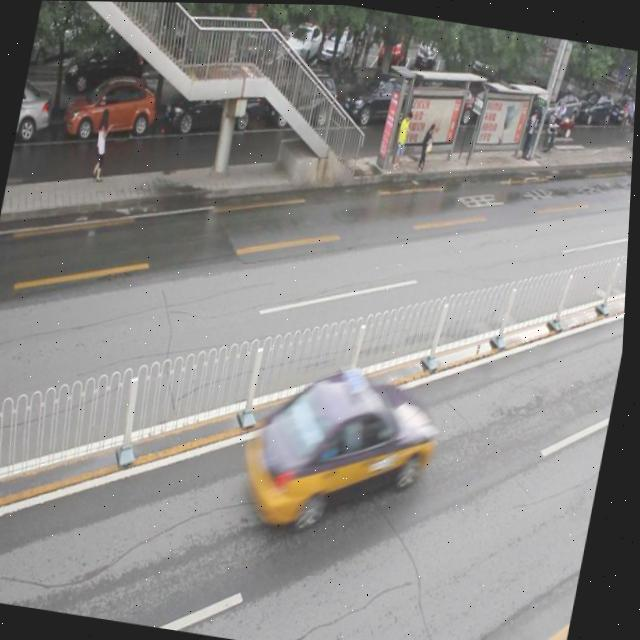car: (232, 352, 452, 548), (57, 69, 159, 151), (158, 70, 262, 139), (335, 66, 423, 137), (259, 66, 338, 136), (16, 83, 56, 144)
